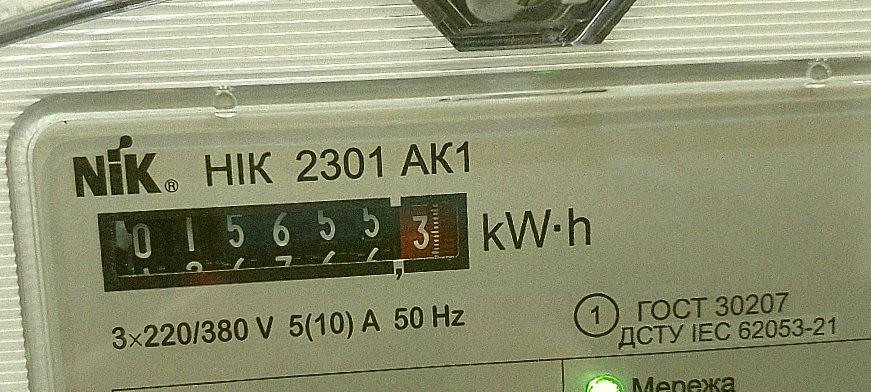0: (127, 218, 155, 260)
1: (179, 214, 200, 254)
3: (409, 212, 430, 250)
5: (221, 212, 247, 249), (314, 208, 339, 241), (361, 205, 381, 238)
6: (268, 210, 293, 247)
screen: (82, 172, 486, 309)
